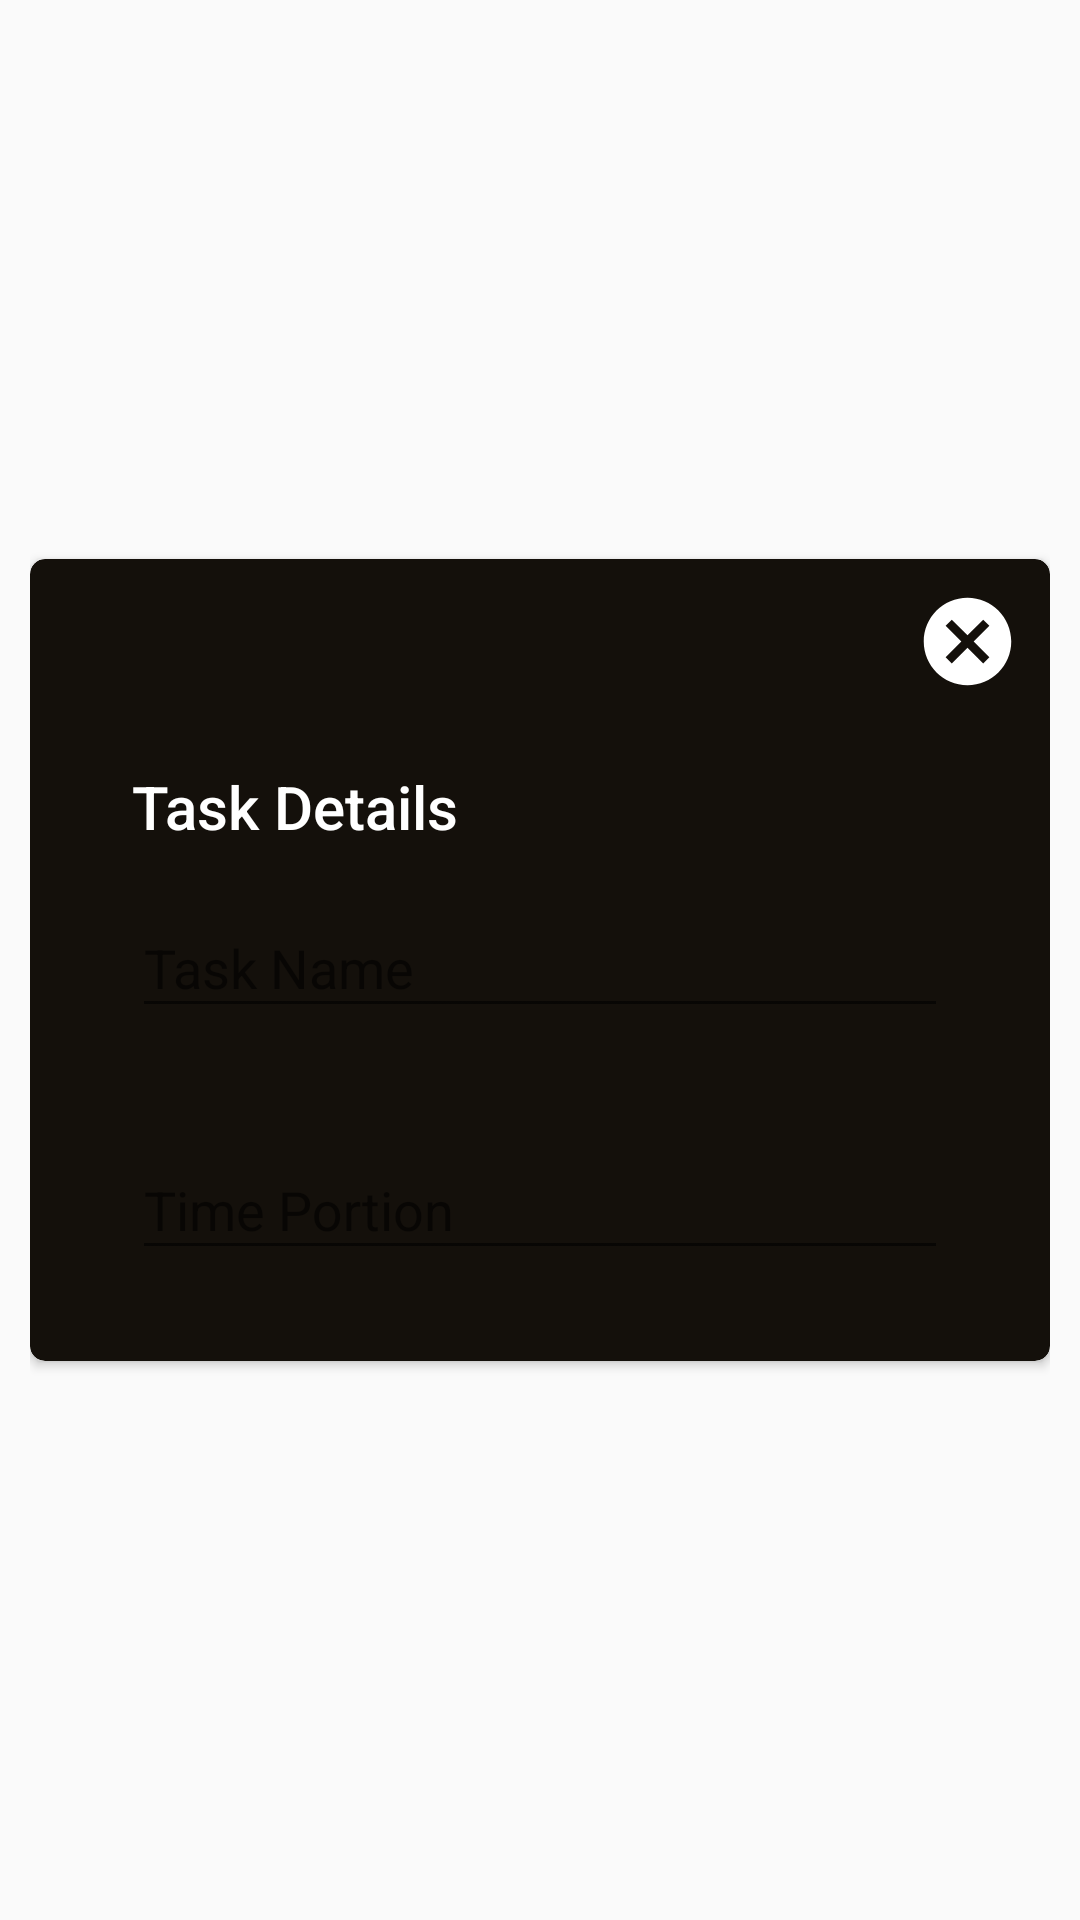

Where icons sit on this 1080w x 1920h app screen, as box(x1, y1, x2, y2):
cancel: box(923, 597, 1012, 686)
